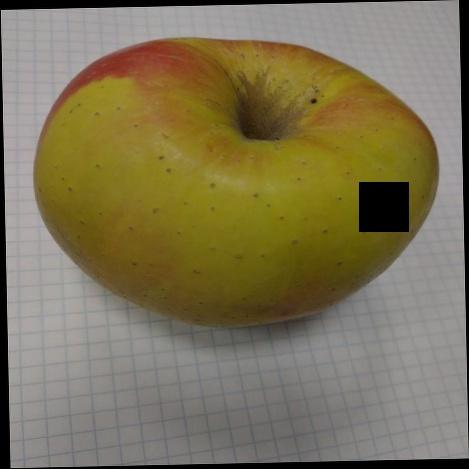green apple: (27, 35, 430, 341)
